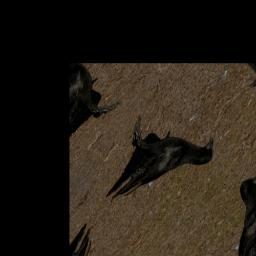Crow: (89, 97, 222, 234)
